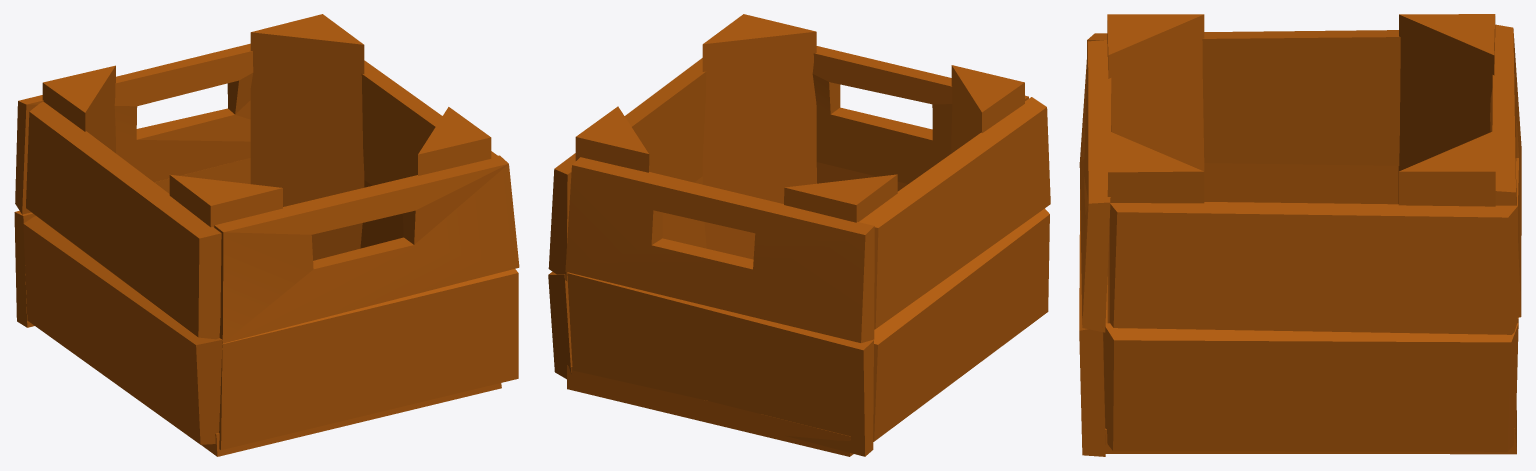
The model's file is Crate_2_1.fbx.
3 views of the same model, side by side, from view 1: azimuth 30°, elevation 25°; view 2: azimuth 150°, elevation 25°; view 3: azimuth 270°, elevation 25° (orthographic). The views are drawn at different scales.
Parts seen in each view (by area): view 1: Crate_2_1; view 2: Crate_2_1; view 3: Crate_2_1.
Boxes of the visible parts, left/top/right/bottom form: Crate_2_1: left=14, top=14, right=519, bottom=456; Crate_2_1: left=548, top=14, right=1050, bottom=456; Crate_2_1: left=1079, top=14, right=1521, bottom=456.
Bounding box in the file's own units: 15.75 × 11.5 × 16.29.
